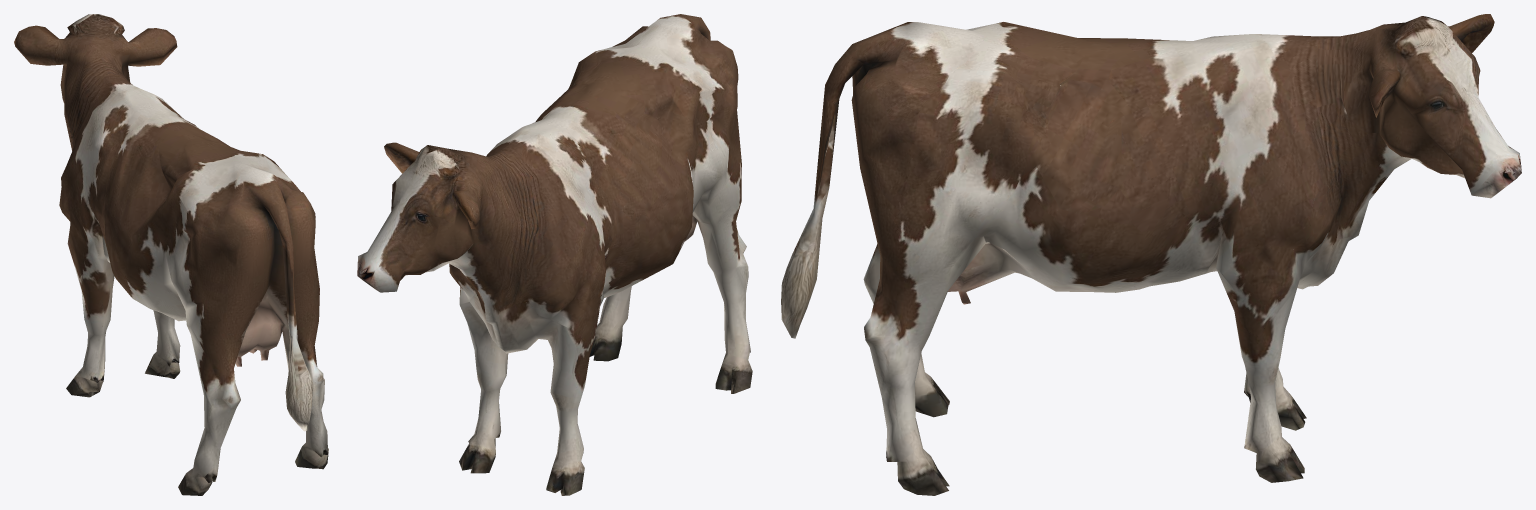
The model's file is animal_cow.glb.
3 views of the same model, side by side, from view 1: azimuth 30°, elevation 25°; view 2: azimuth 150°, elevation 25°; view 3: azimuth 270°, elevation 25° (orthographic). The views are drawn at different scales.
Parts seen in each view (by area): view 1: tripo_node_07533a54-b17b-46df-bb71-03ebcd0aefe6; view 2: tripo_node_07533a54-b17b-46df-bb71-03ebcd0aefe6; view 3: tripo_node_07533a54-b17b-46df-bb71-03ebcd0aefe6.
Part boxes in pixels (left/top/right/bottom): tripo_node_07533a54-b17b-46df-bb71-03ebcd0aefe6: left=14, top=14, right=328, bottom=495; tripo_node_07533a54-b17b-46df-bb71-03ebcd0aefe6: left=357, top=14, right=752, bottom=495; tripo_node_07533a54-b17b-46df-bb71-03ebcd0aefe6: left=781, top=14, right=1521, bottom=495.
Bounding box in the file's own units: 0.3383 × 0.6496 × 0.9801.
Materials: 1 (1 with a texture image).
